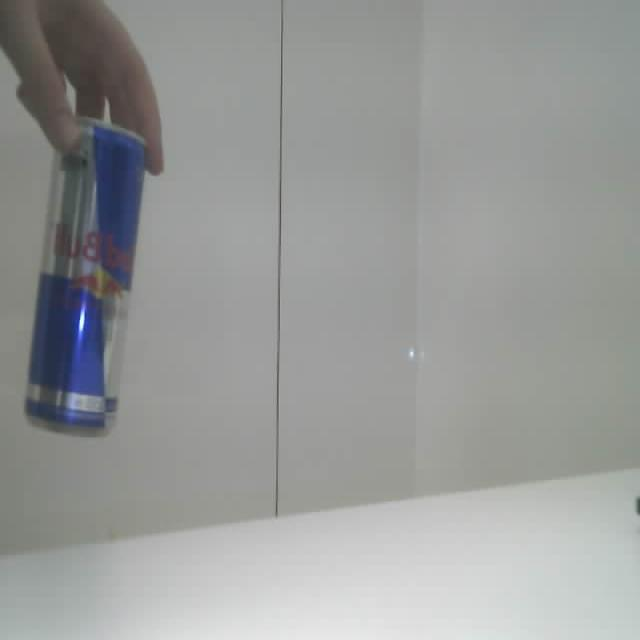redbull can: (25, 119, 144, 433)
